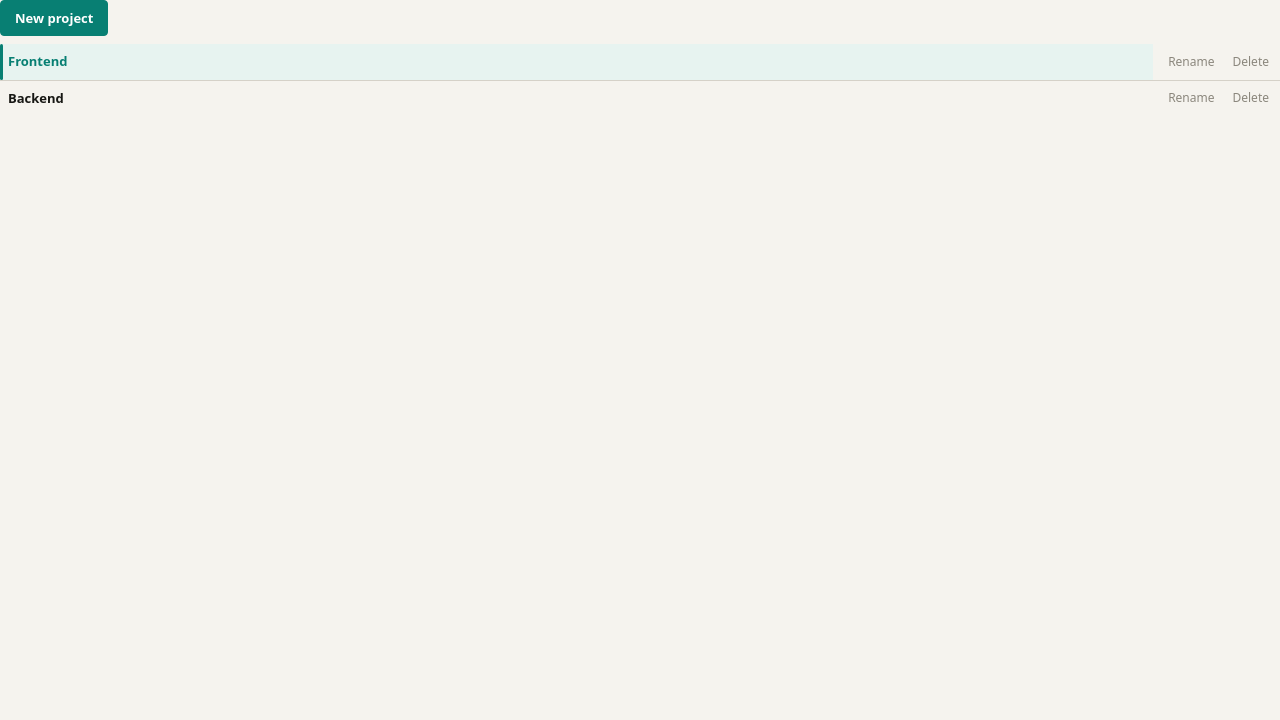
accessibility › project dialog has no axe violations
Click the button "New project" at coordinates (54, 18), box 0,0 -> 108,36
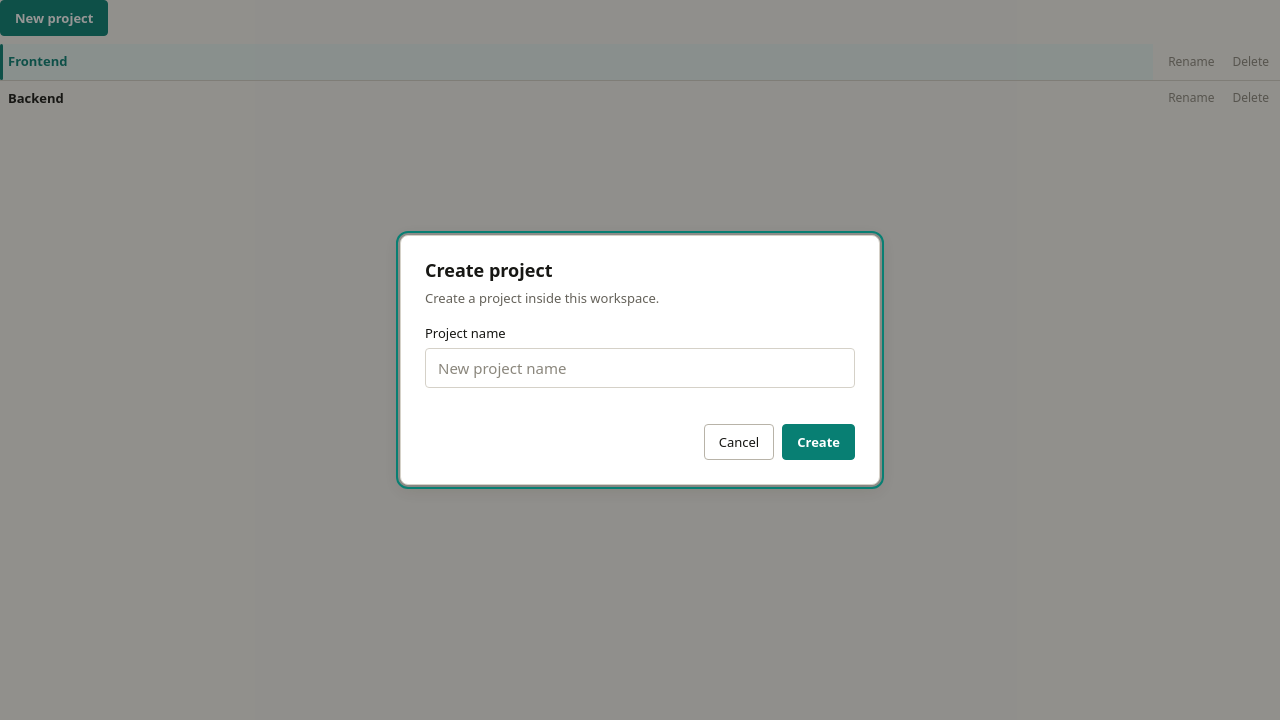
Now the dialog is shown, box 400,235 -> 880,485
